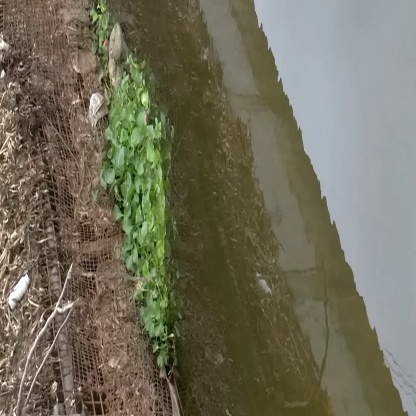grass: (120, 119, 176, 308)
